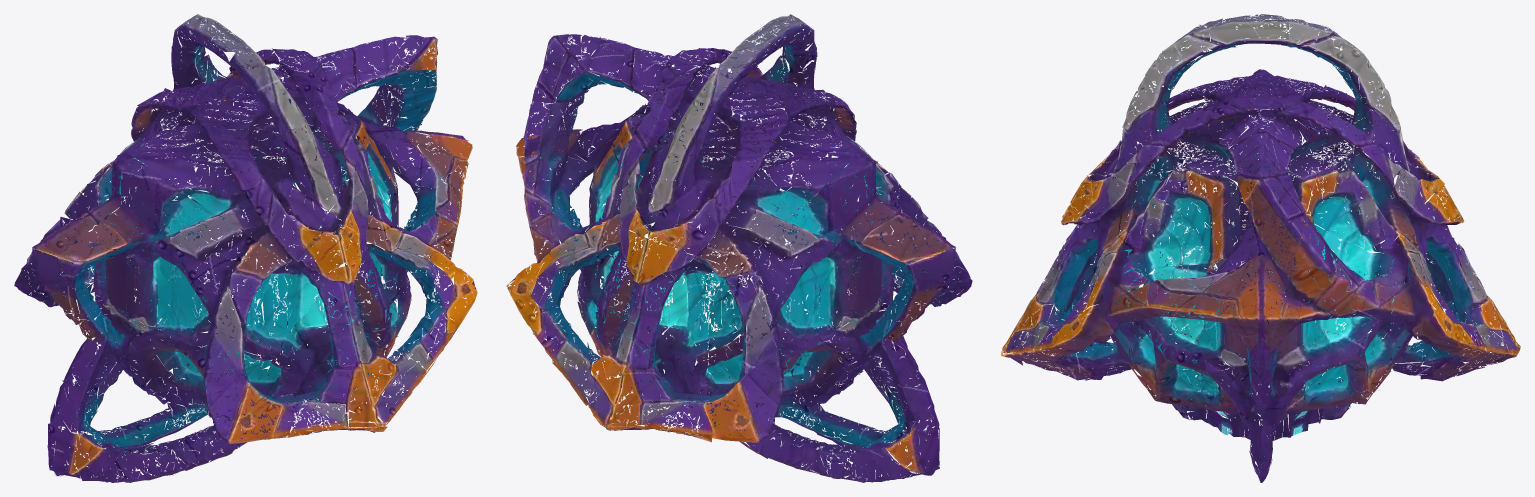
The model's file is enemy_overlord.glb.
3 views of the same model, side by side, from view 1: azimuth 30°, elevation 25°; view 2: azimuth 150°, elevation 25°; view 3: azimuth 270°, elevation 25° (orthographic). The views are drawn at different scales.
Parts seen in each view (by area): view 1: tripo_node_ac06ff1d-9957-4dc0-9b4d-93cb171e5c6e; view 2: tripo_node_ac06ff1d-9957-4dc0-9b4d-93cb171e5c6e; view 3: tripo_node_ac06ff1d-9957-4dc0-9b4d-93cb171e5c6e.
Part boxes in pixels (box(x1,y1,x2,y2)): tripo_node_ac06ff1d-9957-4dc0-9b4d-93cb171e5c6e: box(14, 14, 477, 482); tripo_node_ac06ff1d-9957-4dc0-9b4d-93cb171e5c6e: box(506, 14, 972, 482); tripo_node_ac06ff1d-9957-4dc0-9b4d-93cb171e5c6e: box(1001, 14, 1520, 482).
Bounding box in the file's own units: 0.9975 × 0.8741 × 1.
1 material, 1 textured.
